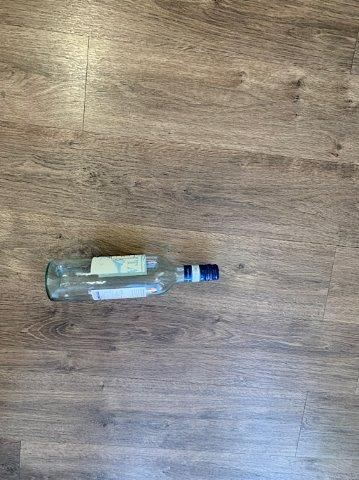botolkaca: (45, 254, 219, 301)
